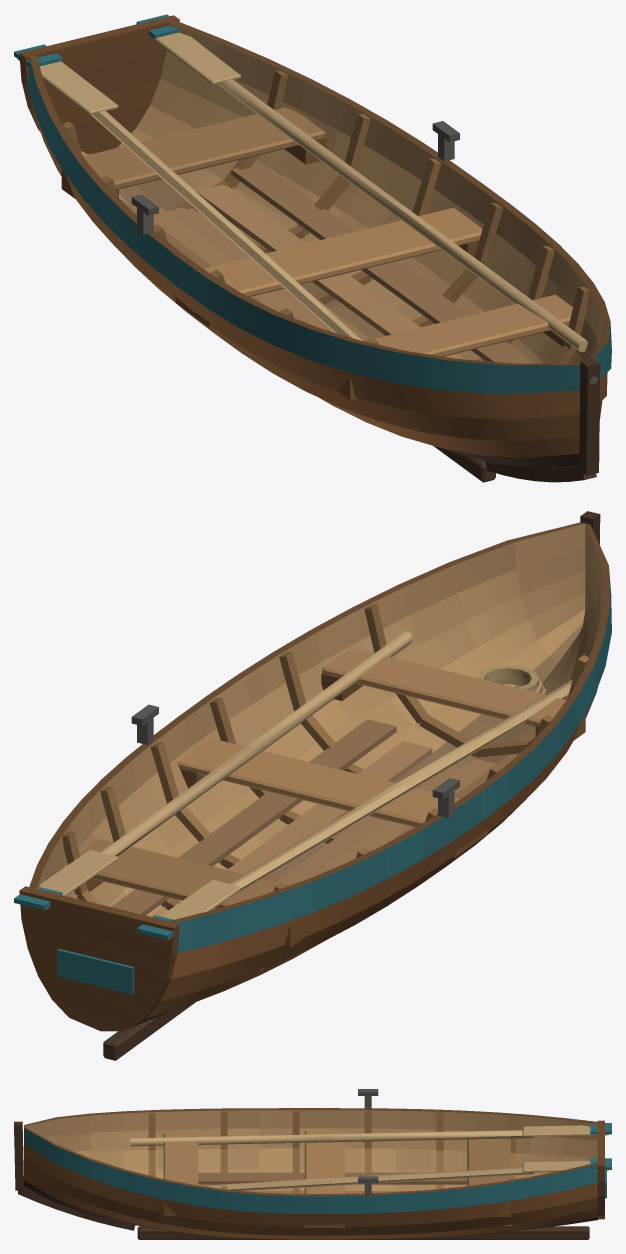
File: rowboat.glb
3 views of the same model, one above another, from view 1: azimuth 30°, elevation 25°; view 2: azimuth 150°, elevation 25°; view 3: azimuth 270°, elevation 25° (orthographic). The views are drawn at different scales.
Parts seen in each view (by area): view 1: Rowboat; view 2: Rowboat; view 3: Rowboat.
Boxes of the visible parts, x1,y1,x2,y2 form: Rowboat: (14, 14, 611, 482); Rowboat: (14, 511, 611, 1060); Rowboat: (14, 1089, 611, 1239).
Size of the model in its own units: 1.48 by 0.8806 by 4.15.
